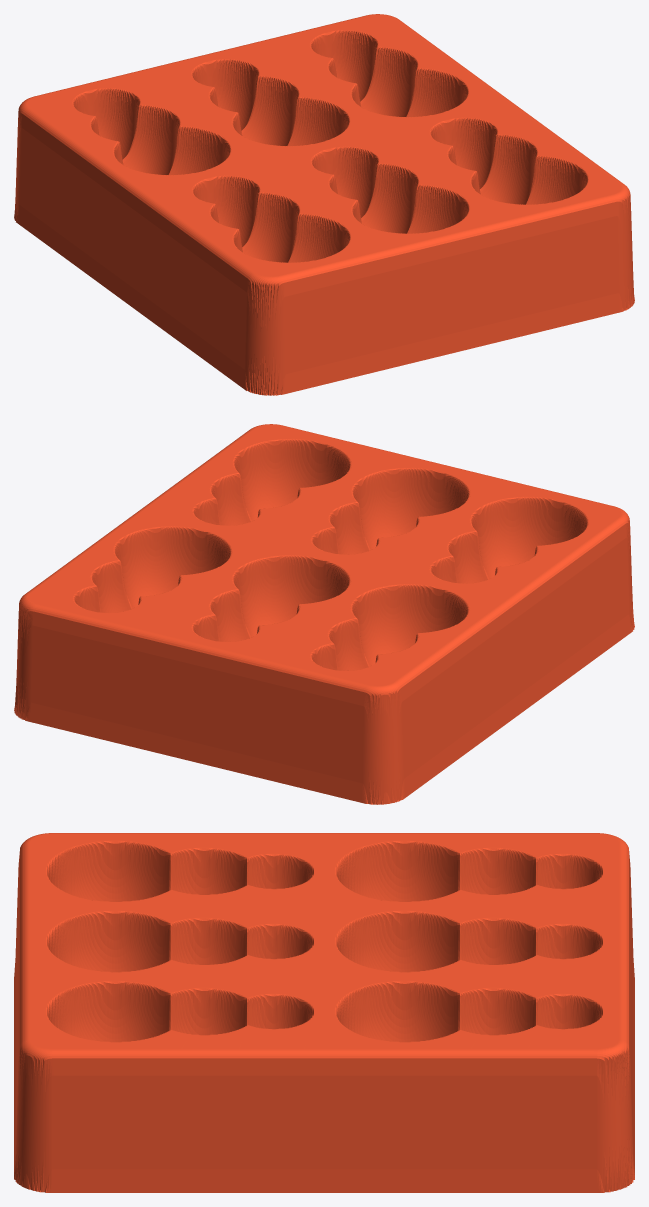
The model's file is mold.glb.
3 views of the same model, one above another, from view 1: azimuth 30°, elevation 25°; view 2: azimuth 150°, elevation 25°; view 3: azimuth 270°, elevation 25° (orthographic). The views are drawn at different scales.
Visible parts, largest first — view 1: geometry_0; view 2: geometry_0; view 3: geometry_0.
Part boxes in pixels (left/top/right/bottom): geometry_0: left=14, top=14, right=634, bottom=395; geometry_0: left=14, top=424, right=634, bottom=804; geometry_0: left=14, top=833, right=634, bottom=1192.
Size of the model in its own units: 0.1285 by 0.036 by 0.1477.
